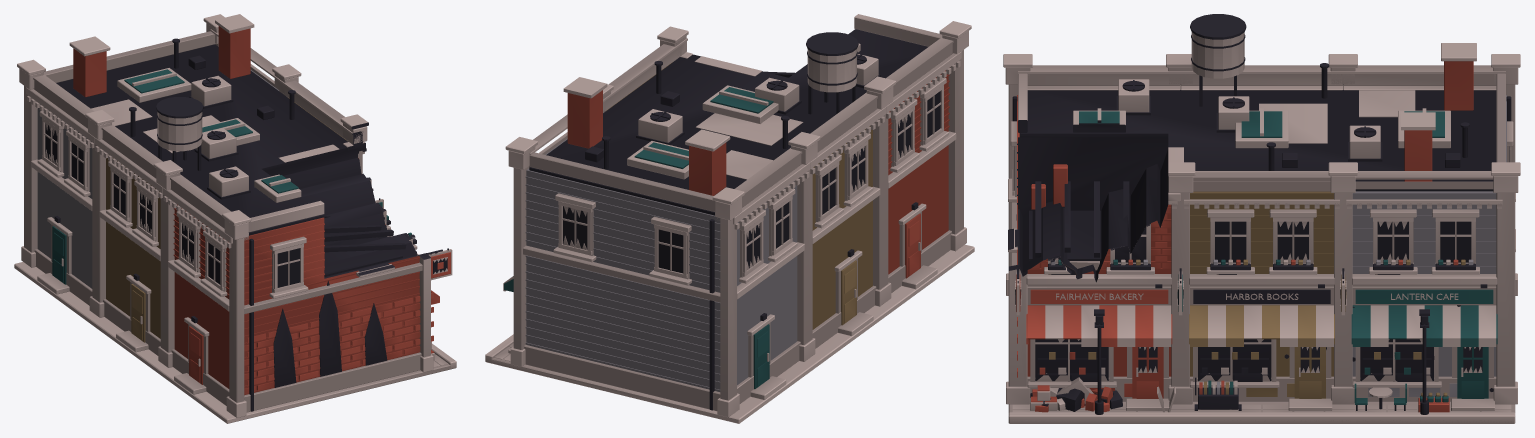
File: bld.storefront-row.w5.glb
The picture shows the model from 3 angles, left to right: view 1: azimuth 30°, elevation 25°; view 2: azimuth 150°, elevation 25°; view 3: azimuth 270°, elevation 25°; orthographic projection. The views are drawn at different scales.
Parts seen in each view (by area): view 1: body; view 2: body; view 3: body.
Part boxes in pixels (bbox=[...]): body: bbox=[14, 14, 456, 423]; body: bbox=[485, 14, 974, 423]; body: bbox=[1003, 14, 1520, 423].
Bounding box in the file's own units: 10.1 × 10.2 × 16.54.
